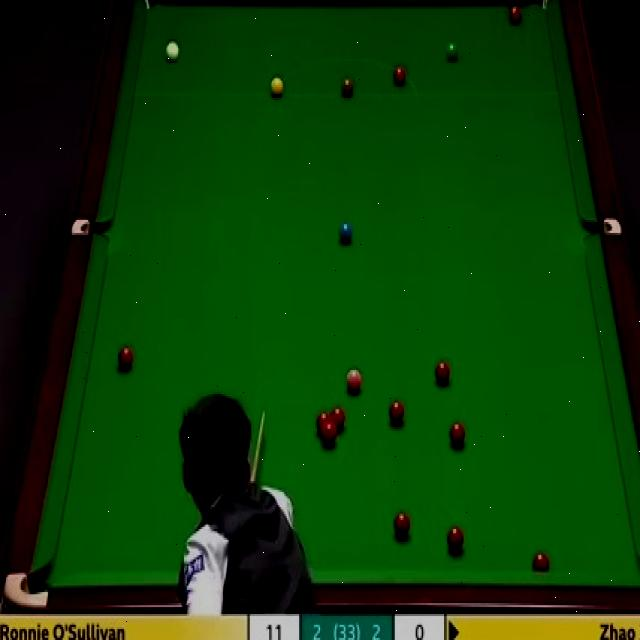blue-ball: (338, 222, 354, 244)
brown-ball: (341, 73, 354, 96)
green-ball: (442, 39, 458, 63)
pink-ball: (346, 369, 364, 396)
red-ball: (445, 524, 465, 554), (434, 358, 452, 386), (393, 508, 409, 538), (388, 398, 406, 424), (118, 346, 134, 375), (449, 422, 464, 451), (315, 411, 331, 438), (532, 550, 550, 571), (391, 64, 407, 86), (331, 407, 345, 432), (508, 3, 523, 26), (322, 426, 338, 446)
white-ball: (164, 39, 181, 63)
yellow-ball: (269, 77, 285, 97)
